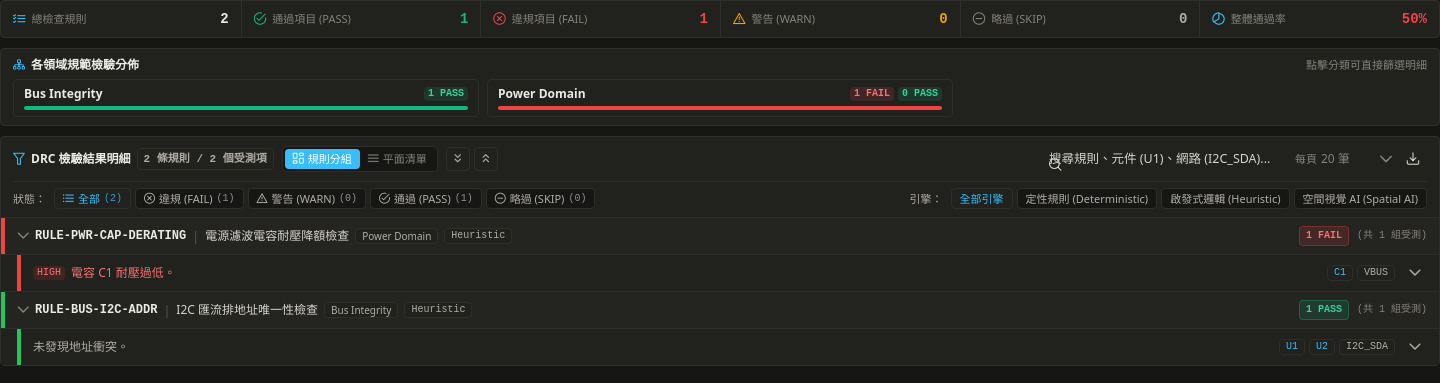
TaskReportDashboard.vue › 支援過濾按鈕切換展示列表
Click the button with class "filter-pill-btn" showing "違規 (FAIL) (1)".
click(189, 199)  # box [135,188,244,209]
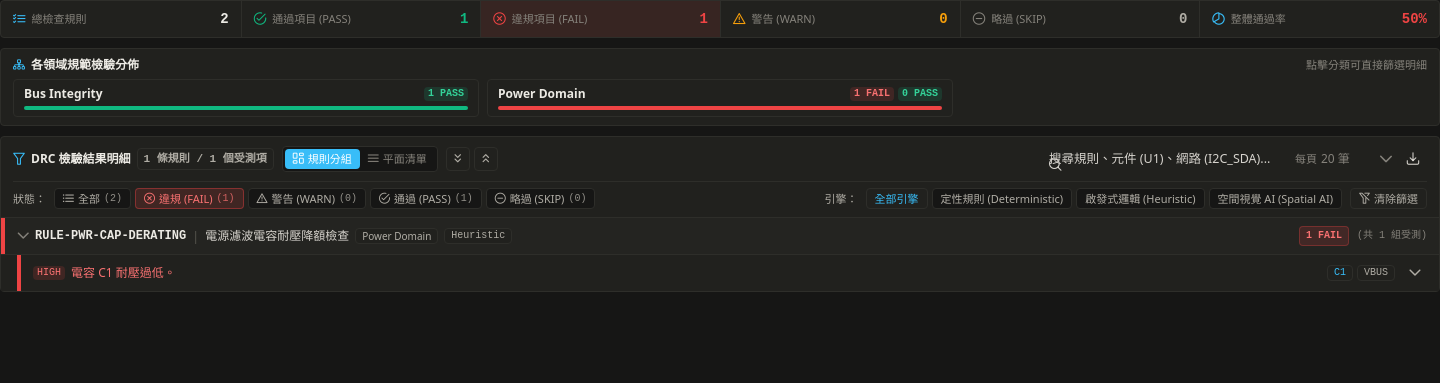
Expected: the element with class "rule-group-card" shows "電源濾波電容耐壓降額檢查", [205,227,349,244]
Result: the number of elements with class "rule-group-card" is 1 at [1,218,1439,291]
